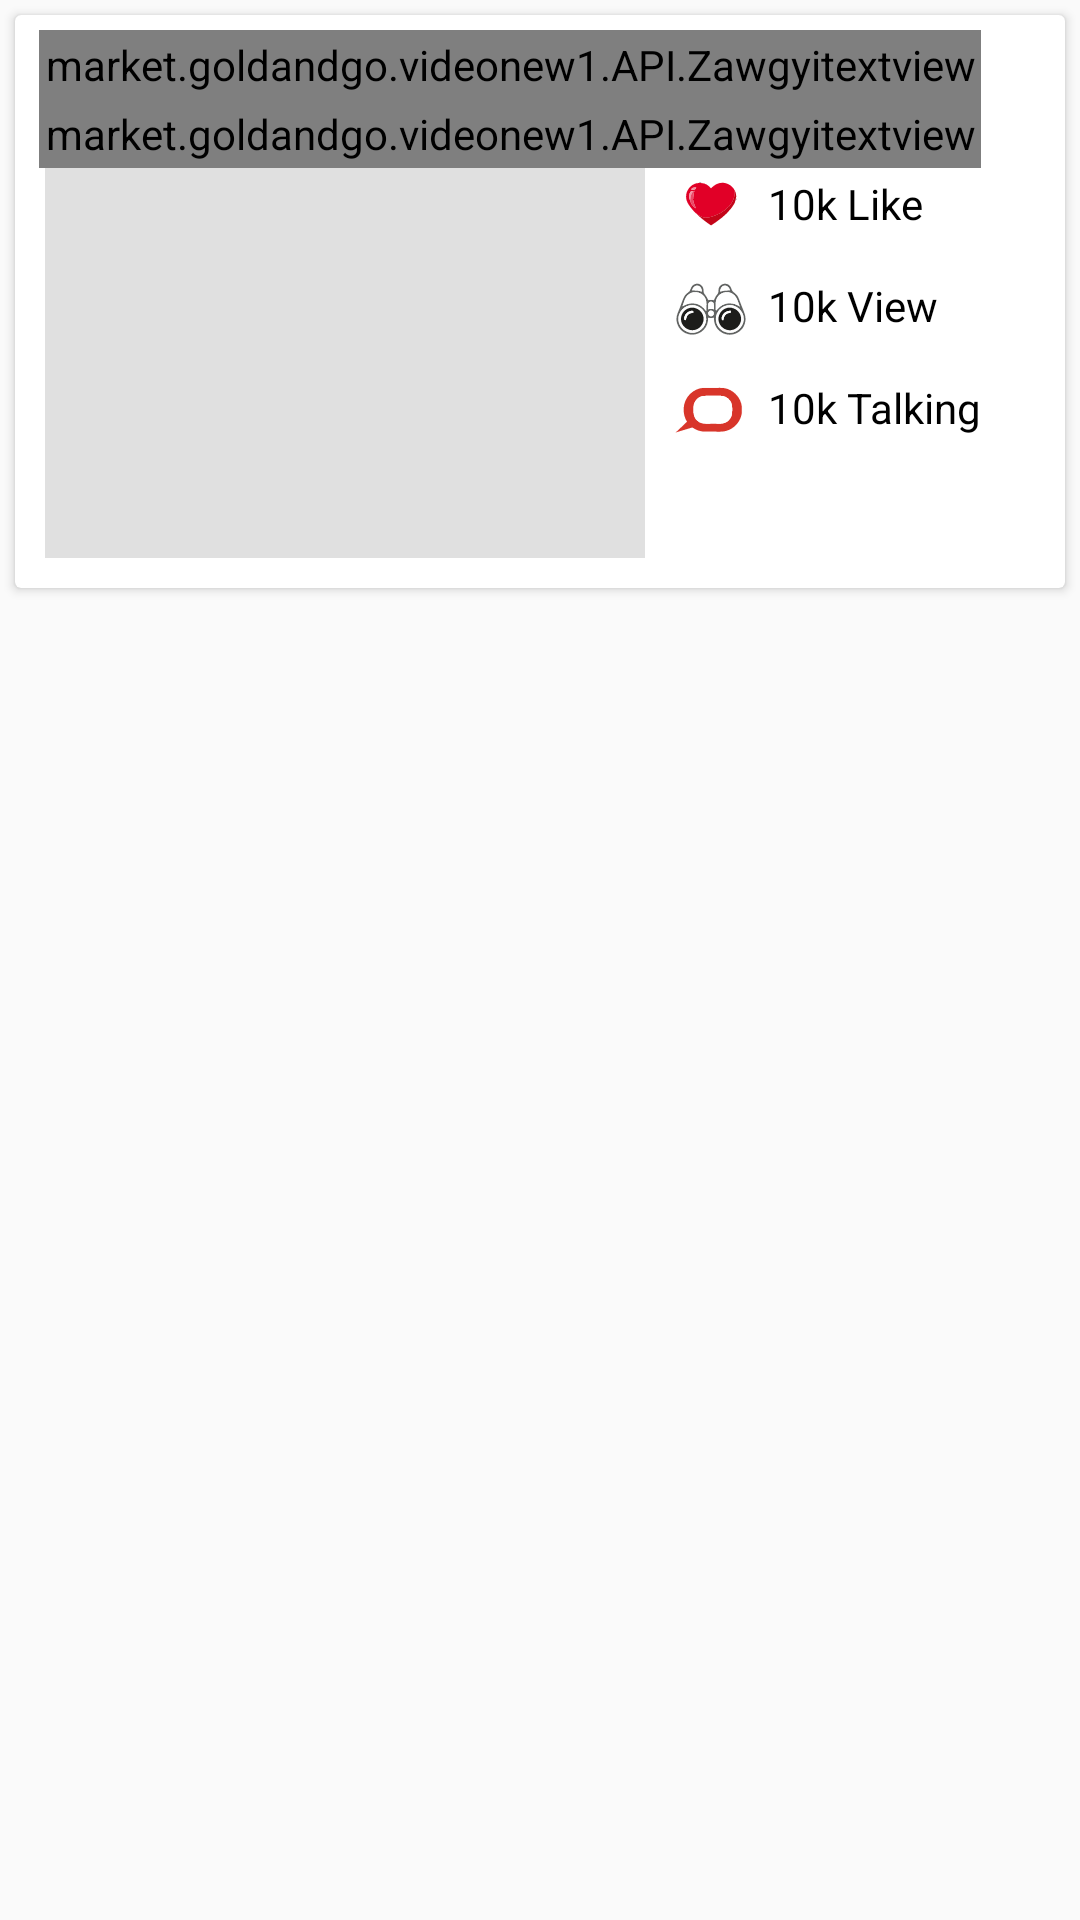

Where icons sit on this 1080px x 1920px app screen, as (x1, y1, x2, y2):
comment: (676, 387, 742, 433)
love: (686, 182, 737, 226)
